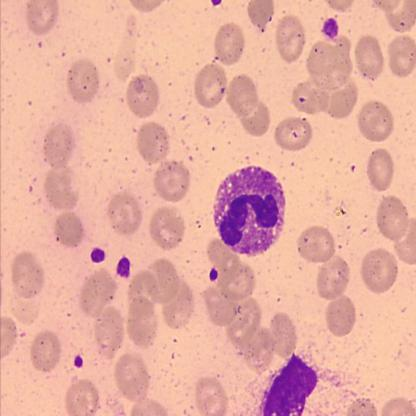Segmented neutrophil: (210, 164, 286, 257)
